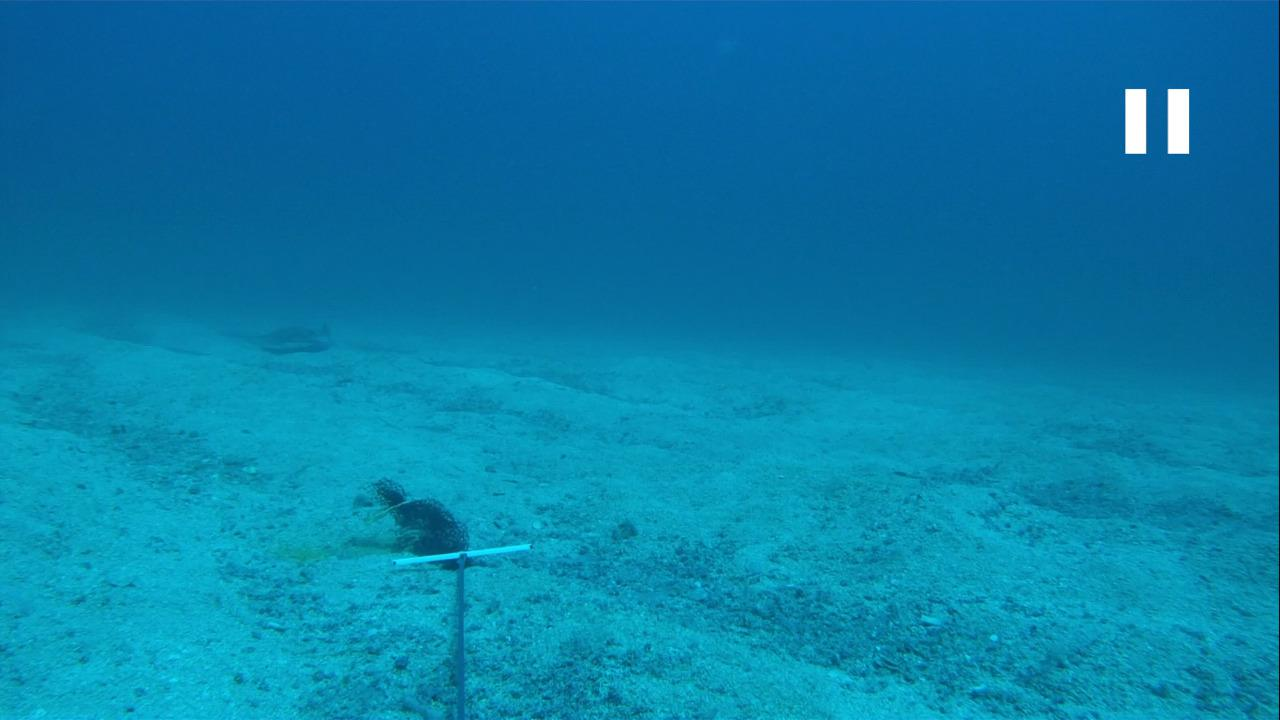myliobatis: (206, 309, 343, 365)
